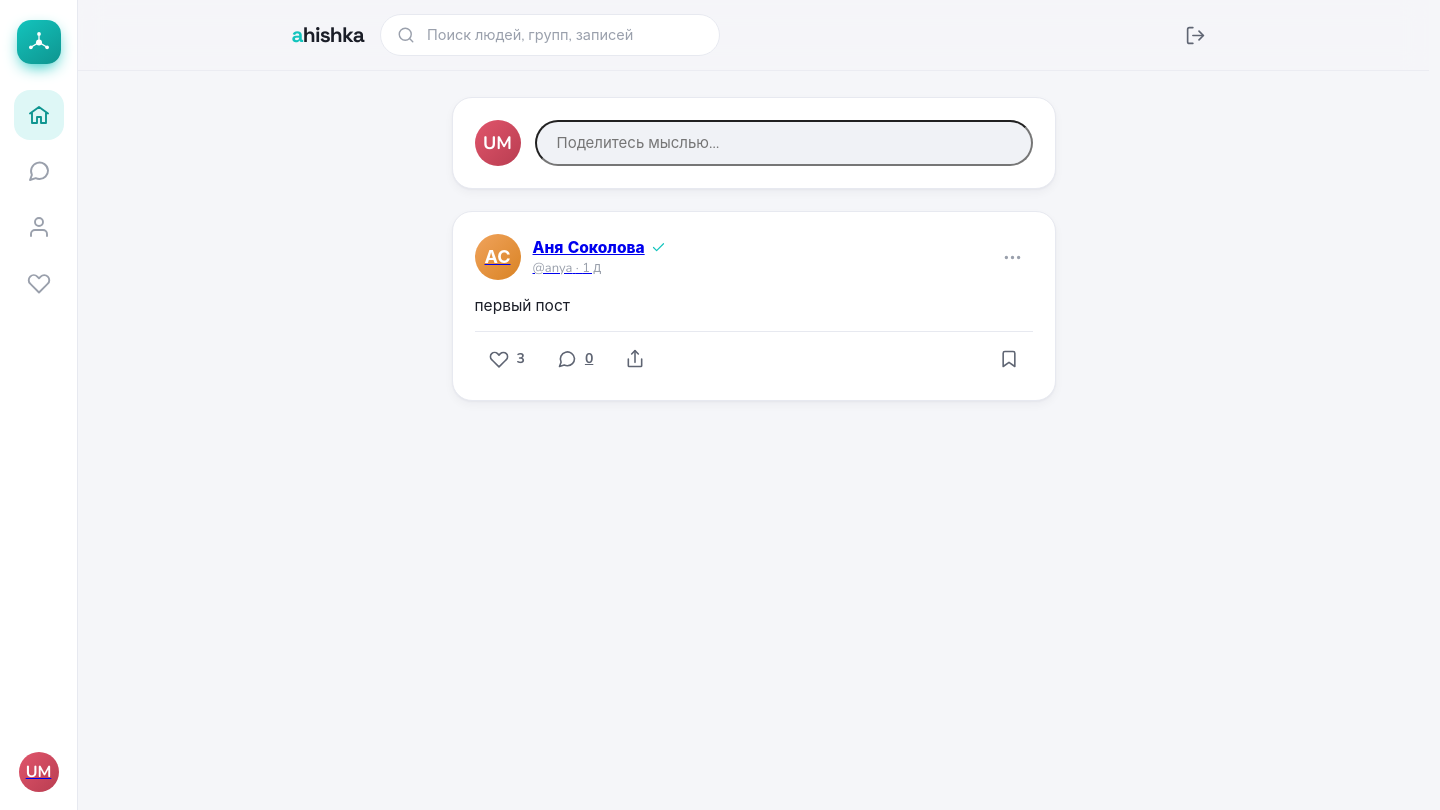
Test: опубликованный пост встаёт в начало ленты
The width and height of the screenshot is (1440, 810).
Step 1. Click the field with placeholder "Поделитесь мыслью…" → (784, 143), box [534,120,1032,166]
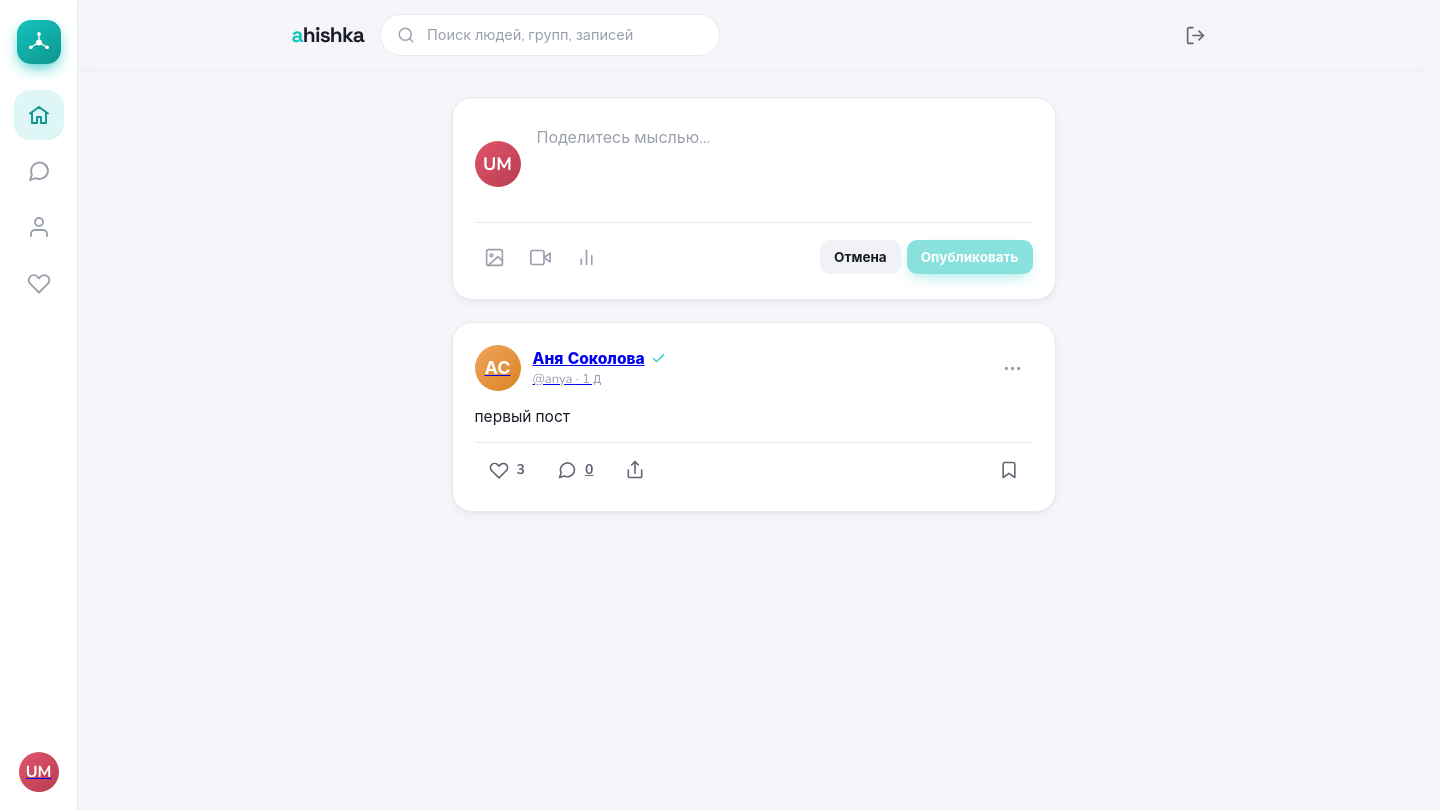
Step 2. Type "свежая мысль" into the text box → (784, 166), box [534,124,1032,208]
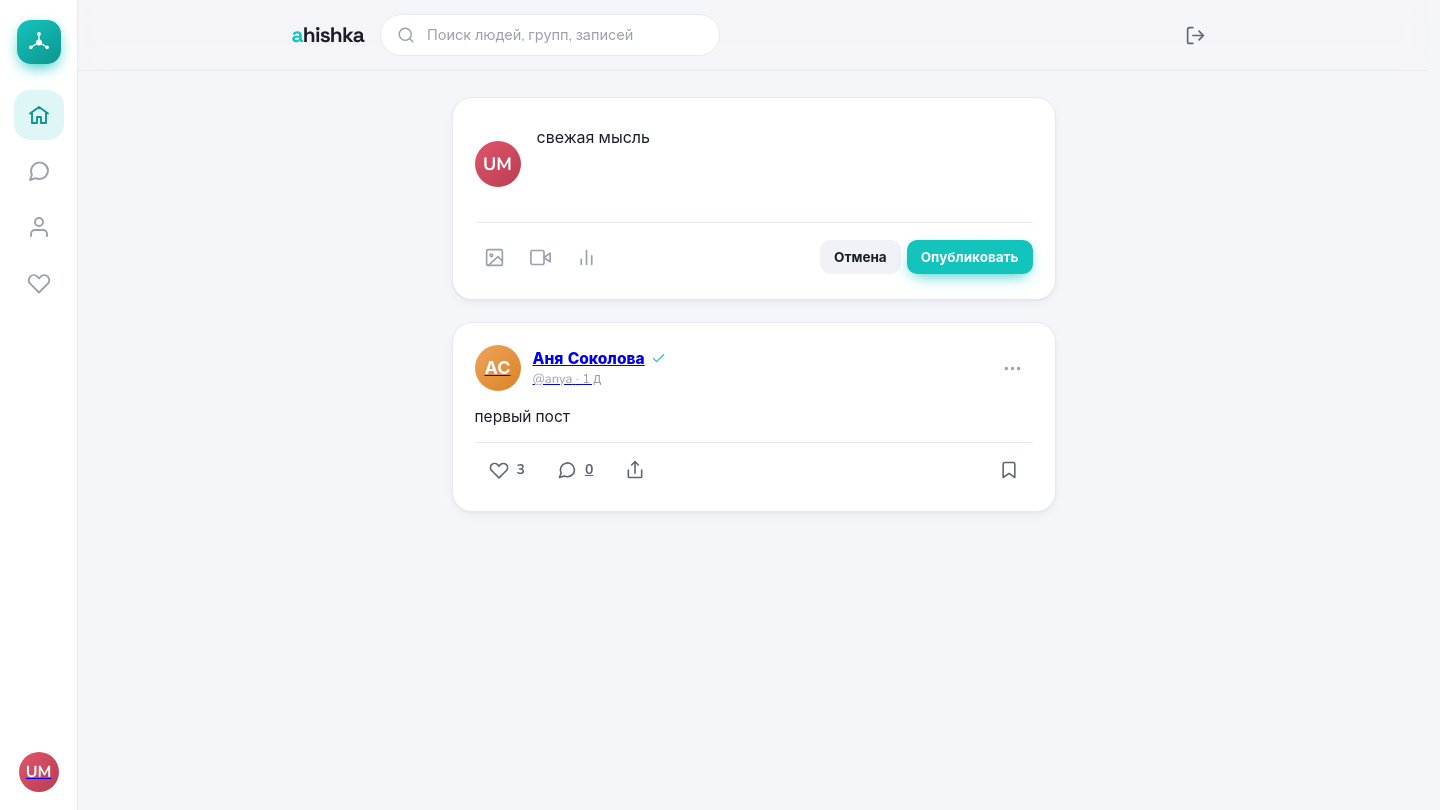
Step 3. Click the button "Опубликовать" → (970, 257), box [907,240,1032,274]
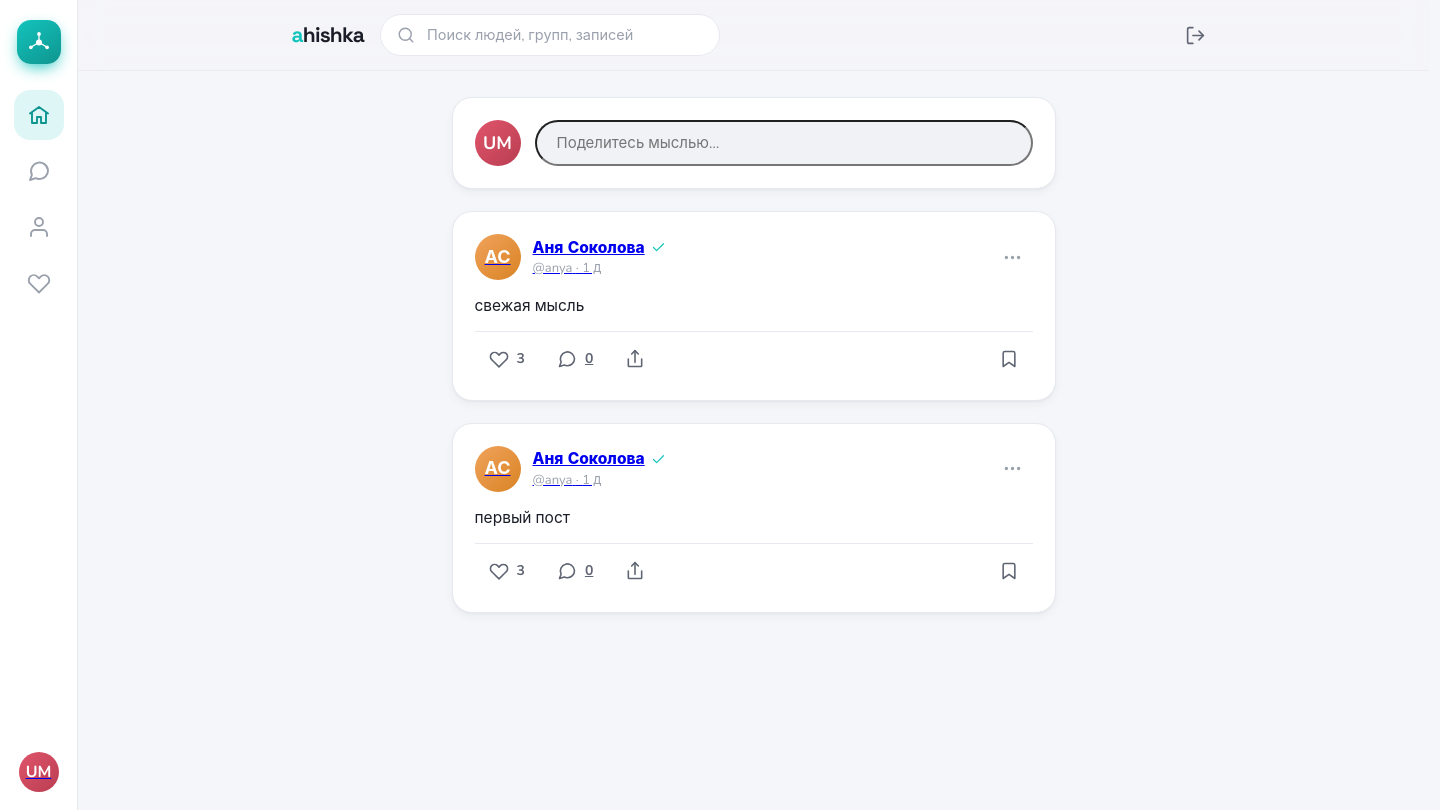
expect the text "свежая мысль" is shown: met, box [474,295,584,316]
